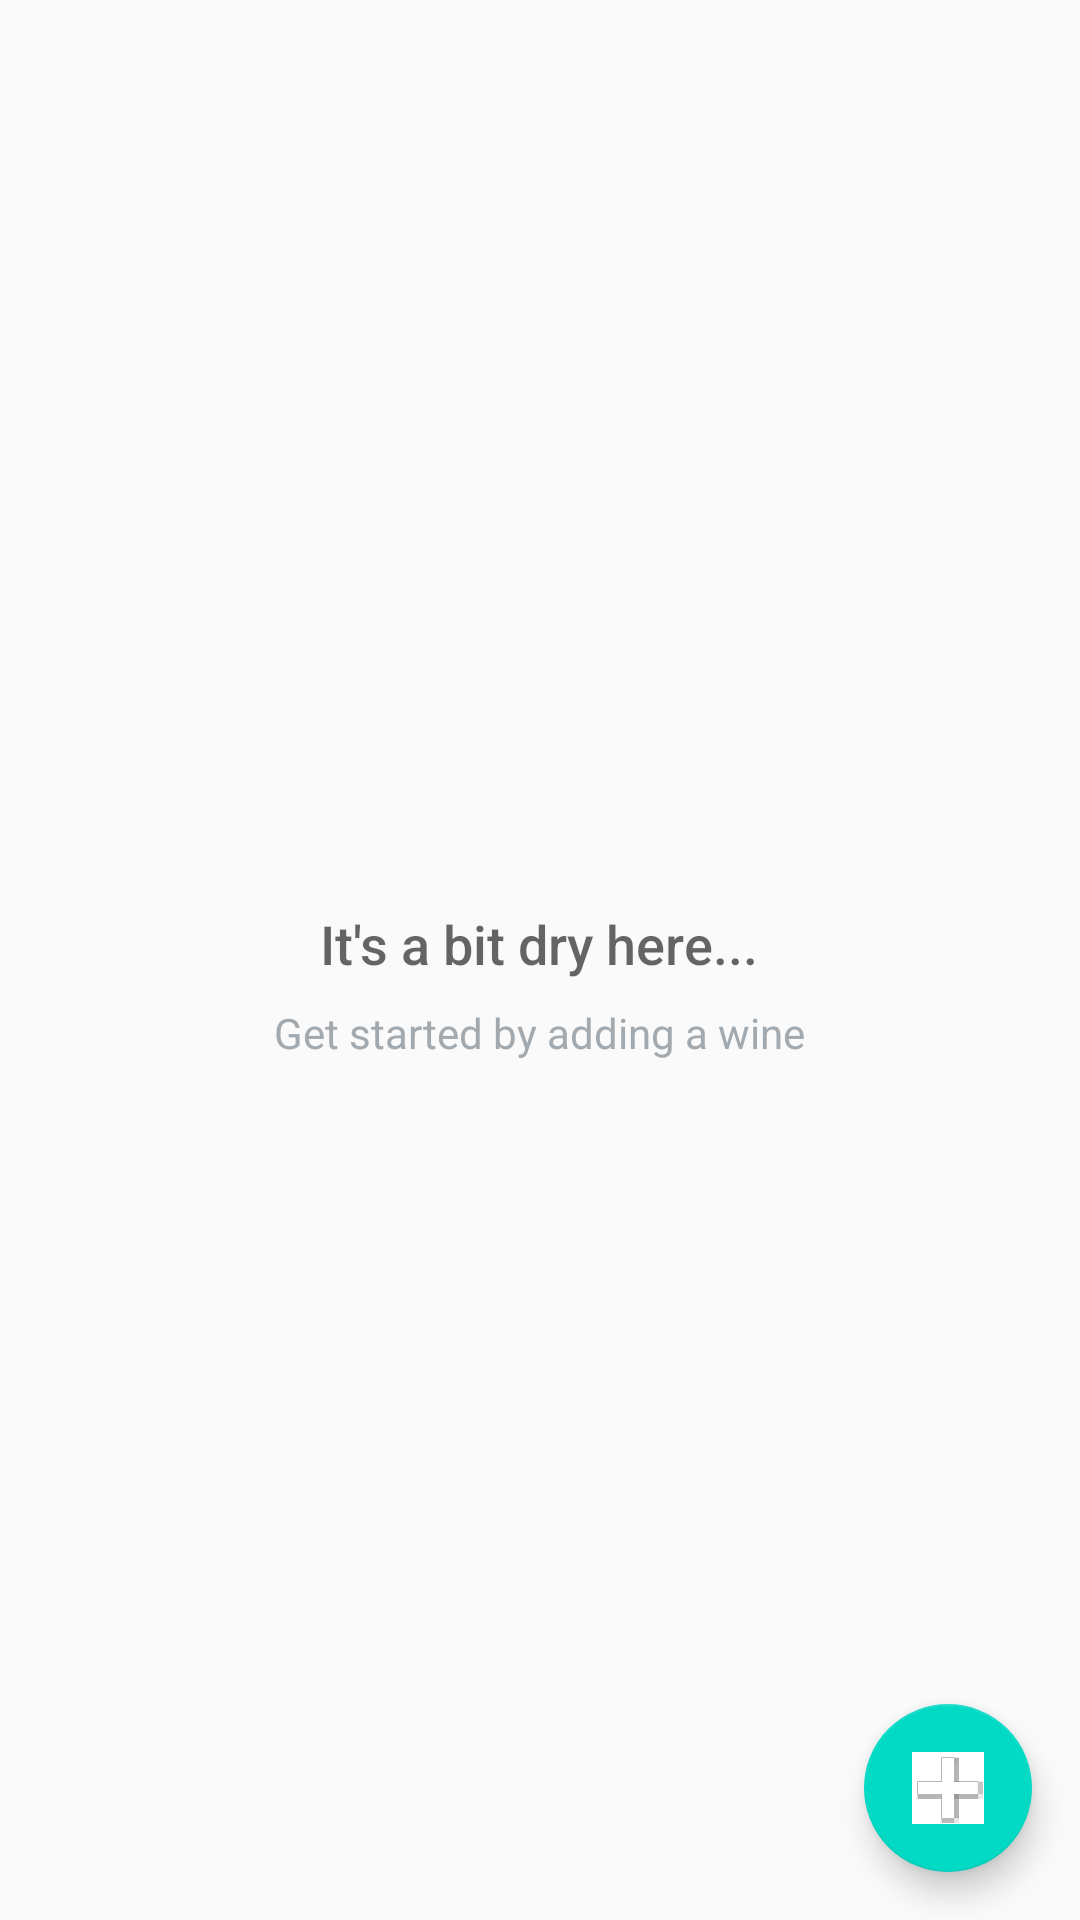

Named icons in this screenshot (1080 x 1920) and their centers, [x,y]:
add wine: [948,1788]
